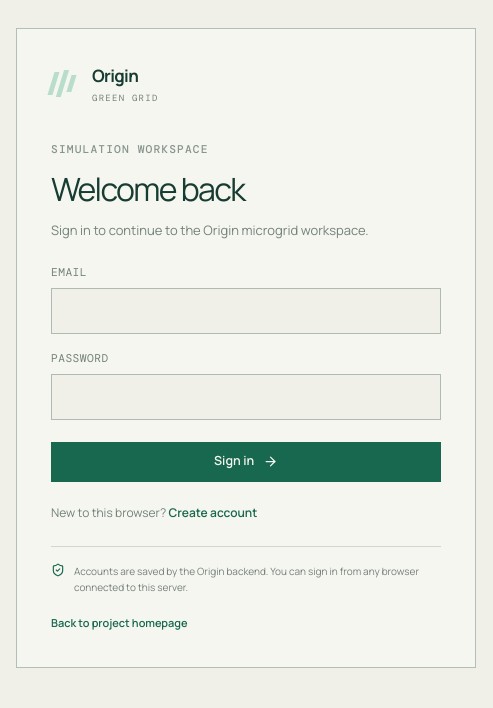
Test: keeps server errors visible without entering the workspace
Type "demo@example.test" into the field labelled "EMAIL" at (246, 311), box [51,288,441,334]
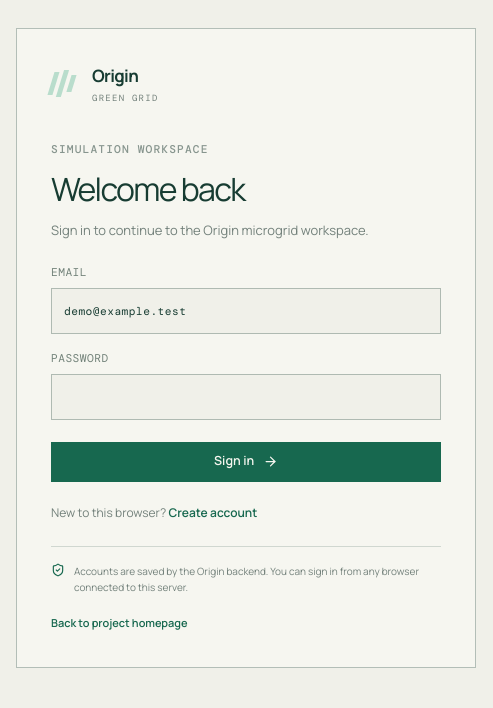
Type "password123" into the password field labelled "PASSWORD" at (246, 397), box [51,374,441,420]
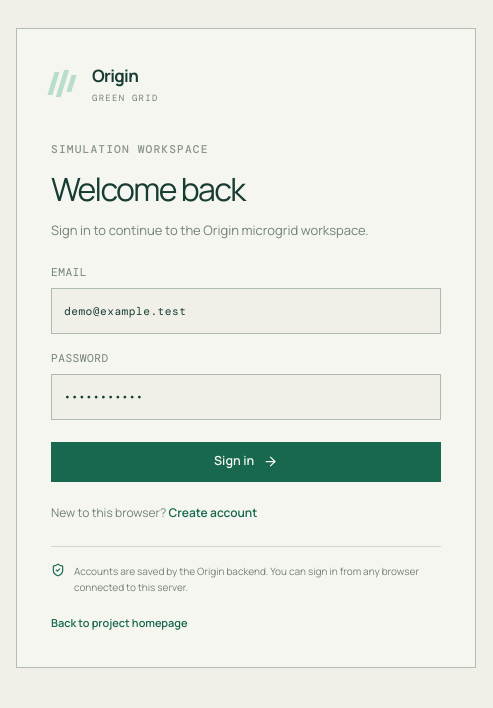
Click the button "Sign in" at (246, 462), box [51,442,441,482]
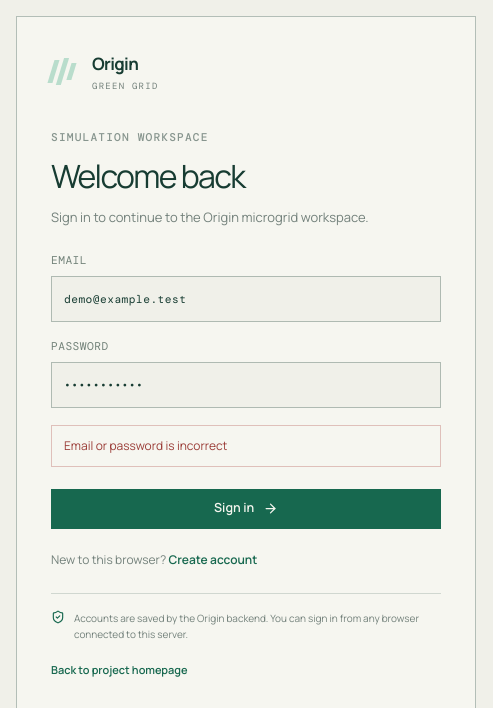
Expected: the button "Sign in" is enabled, [51,489,441,529]
Expected: the message reads "Email or password is incorrect", [64,437,227,454]
